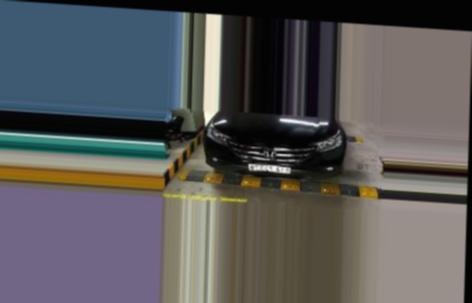License_Plate: (246, 162, 292, 177)
